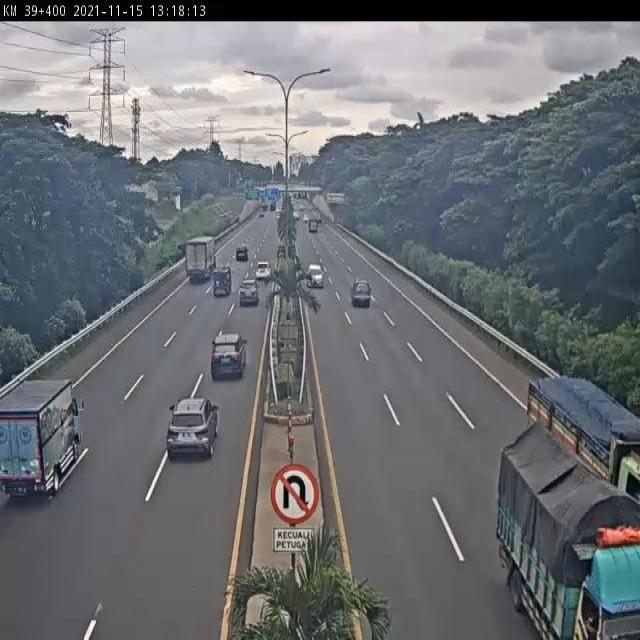car: (167, 395, 220, 457), (209, 332, 247, 380), (239, 279, 260, 305)
truck-s-: (0, 378, 80, 498), (350, 277, 372, 308)
